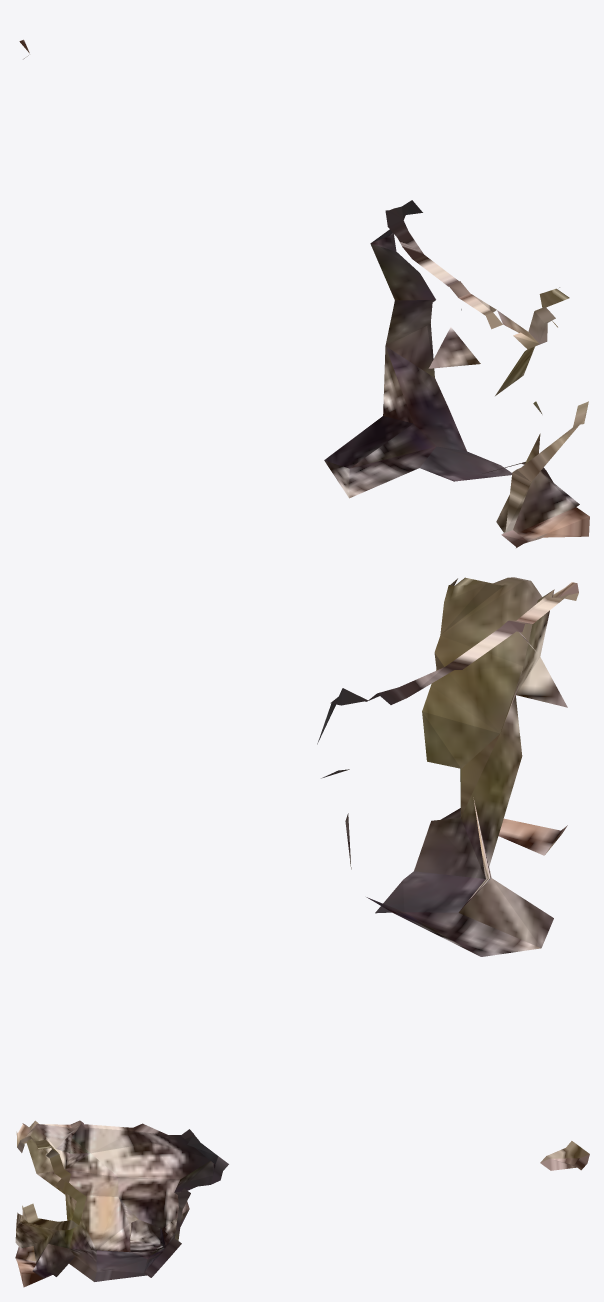
3 renders of one model, top to bottom at view 1: azimuth 30°, elevation 25°; view 2: azimuth 150°, elevation 25°; view 3: azimuth 270°, elevation 25°, orthographic. The views are drawn at different scales.
Parts seen in each view (by area): view 1: Mesh_0; view 2: Mesh_0; view 3: Mesh_0.
Boxes of the visible parts, left/top/right/bottom form: Mesh_0: left=19, top=39, right=589, bottom=547; Mesh_0: left=317, top=577, right=578, bottom=956; Mesh_0: left=15, top=1120, right=589, bottom=1287.
Size of the model in its own units: 5.82 by 8.17 by 30.17.
Materials: 1 (1 with a texture image).
